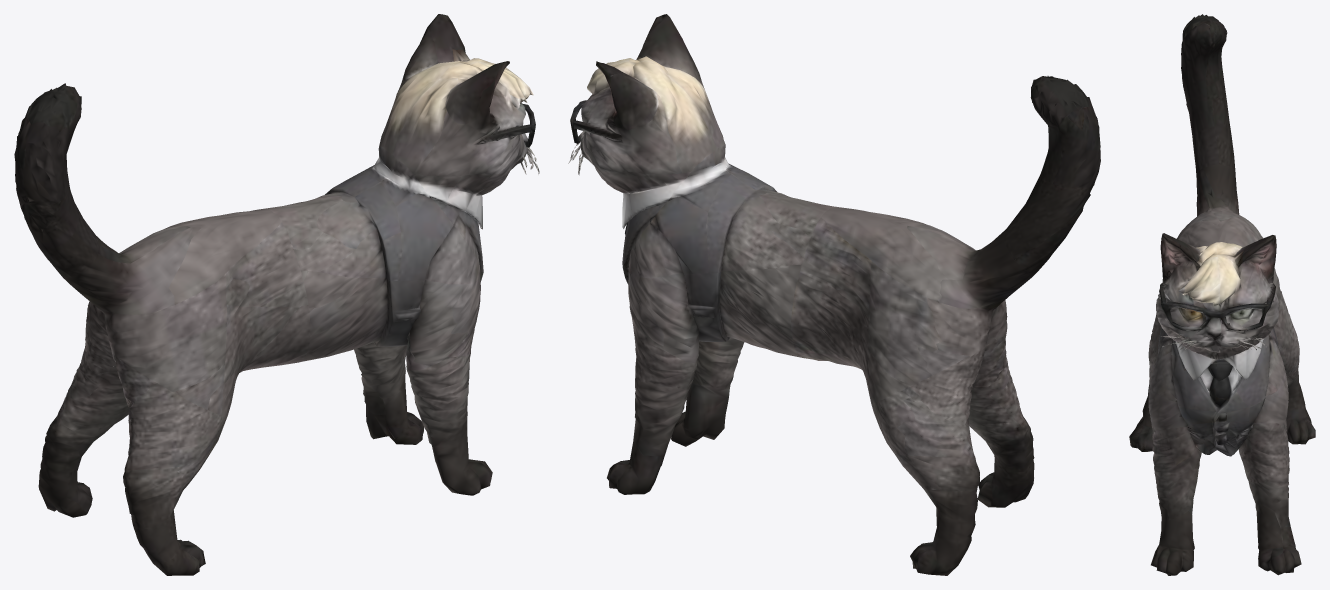
Rendered from RAYMONDCAT-lo.glb.
The picture shows the model from 3 angles, left to right: view 1: azimuth 30°, elevation 25°; view 2: azimuth 150°, elevation 25°; view 3: azimuth 270°, elevation 25°; orthographic projection. The views are drawn at different scales.
Parts seen in each view (by area): view 1: tripo_node_8a9ffb58-7505-479d-ab15-20c0cc78180e; view 2: tripo_node_8a9ffb58-7505-479d-ab15-20c0cc78180e; view 3: tripo_node_8a9ffb58-7505-479d-ab15-20c0cc78180e.
Part boxes in pixels (x1,y1,x2,y2): tripo_node_8a9ffb58-7505-479d-ab15-20c0cc78180e: [14, 14, 539, 575]; tripo_node_8a9ffb58-7505-479d-ab15-20c0cc78180e: [568, 14, 1100, 575]; tripo_node_8a9ffb58-7505-479d-ab15-20c0cc78180e: [1129, 14, 1315, 575].
Bounding box in the file's own units: 1.12 × 0.9989 × 0.4258.
1 material, 1 textured.
